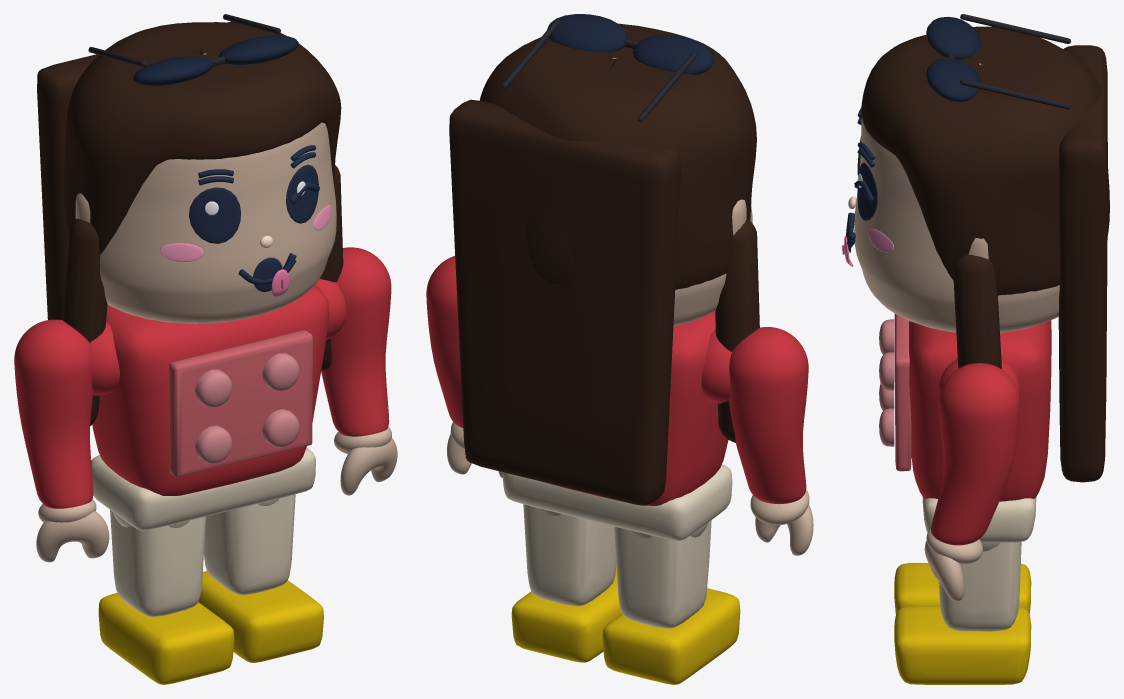
File: mom.glb
The picture shows the model from 3 angles, left to right: view 1: azimuth 30°, elevation 25°; view 2: azimuth 150°, elevation 25°; view 3: azimuth 270°, elevation 25°; orthographic projection.
Parts seen in each view (by area): view 1: HeadMesh, Body, ArmMeshL, ArmMeshR, Ink_surprised_1D2A44, Ink_happy_FF9EC4, Ink_silly_1D2A44; view 2: HeadMesh, Body, ArmMeshL, ArmMeshR; view 3: HeadMesh, Body, ArmMeshR, Ink_surprised_1D2A44, Ink_silly_1D2A44.
Boxes of the visible parts, left/top/right/bottom form: HeadMesh: left=37, top=14, right=343, bottom=425; Body: left=90, top=278, right=346, bottom=684; ArmMeshL: left=14, top=319, right=109, bottom=562; ArmMeshR: left=321, top=247, right=397, bottom=495; Ink_surprised_1D2A44: left=189, top=145, right=318, bottom=291; Ink_happy_FF9EC4: left=159, top=205, right=331, bottom=261; Ink_silly_1D2A44: left=198, top=152, right=319, bottom=284; HeadMesh: left=449, top=14, right=759, bottom=505; Body: left=502, top=311, right=740, bottom=684; ArmMeshL: left=729, top=327, right=813, bottom=555; ArmMeshR: left=426, top=256, right=502, bottom=477; HeadMesh: left=854, top=14, right=1109, bottom=482; Body: left=879, top=314, right=1051, bottom=684; ArmMeshR: left=924, top=363, right=1019, bottom=601; Ink_surprised_1D2A44: left=847, top=108, right=877, bottom=252; Ink_silly_1D2A44: left=846, top=118, right=874, bottom=247.
Size of the model in its own units: 1.63 by 2.58 by 1.04.
